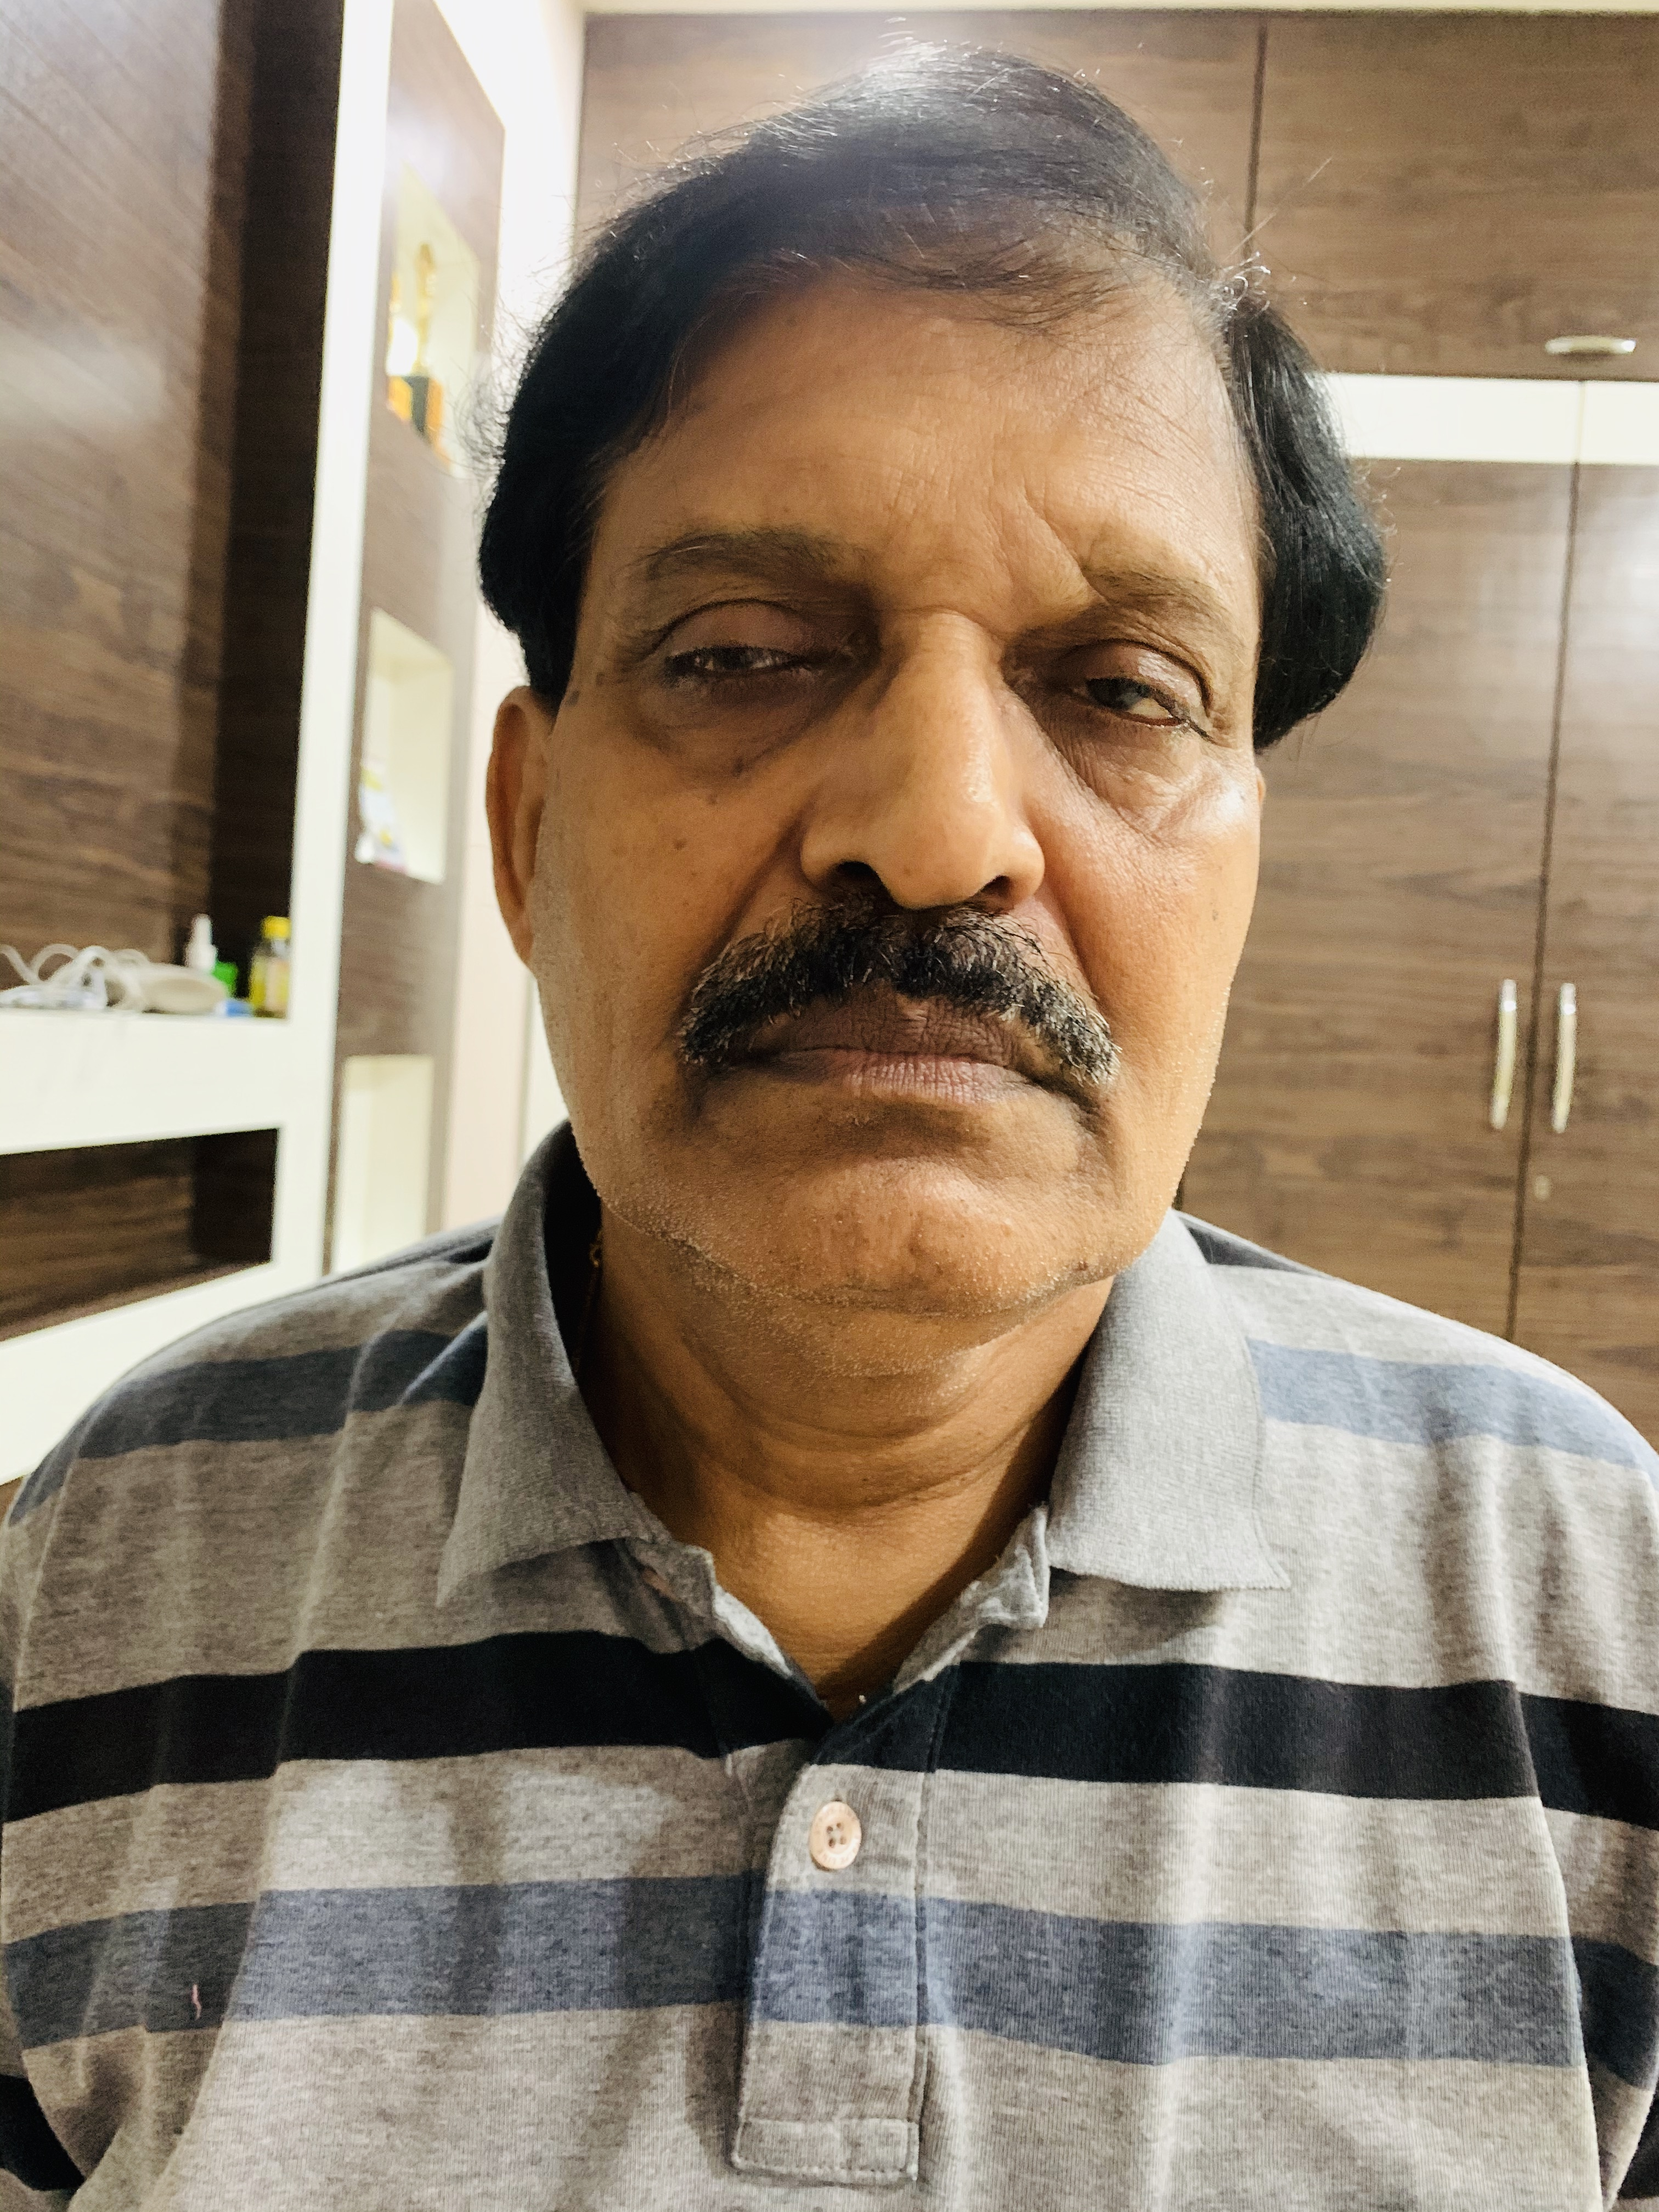Half Asleep: (586, 523, 1265, 787)
